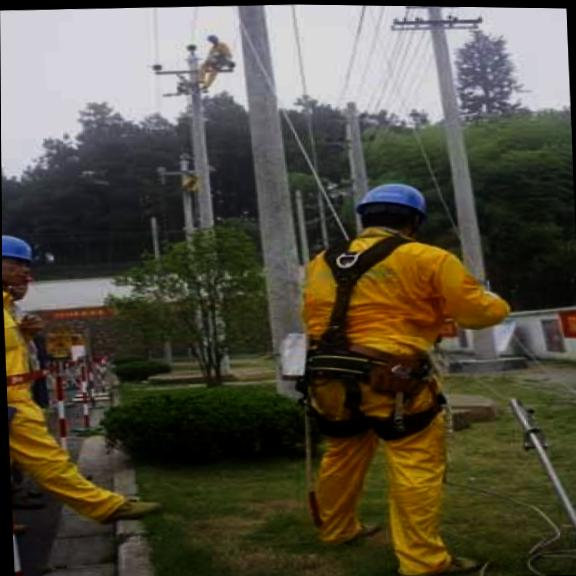safety_vest: (297, 236, 505, 372), (2, 288, 53, 430)
